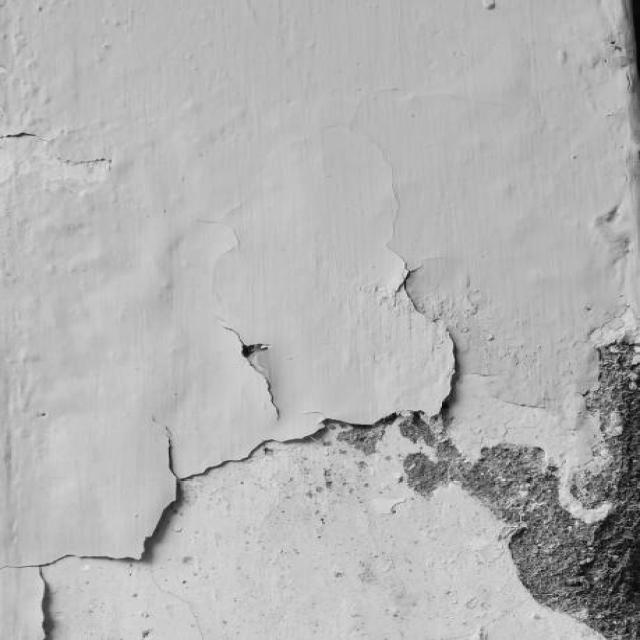peeling paint: (1, 231, 640, 640), (0, 0, 131, 186)
